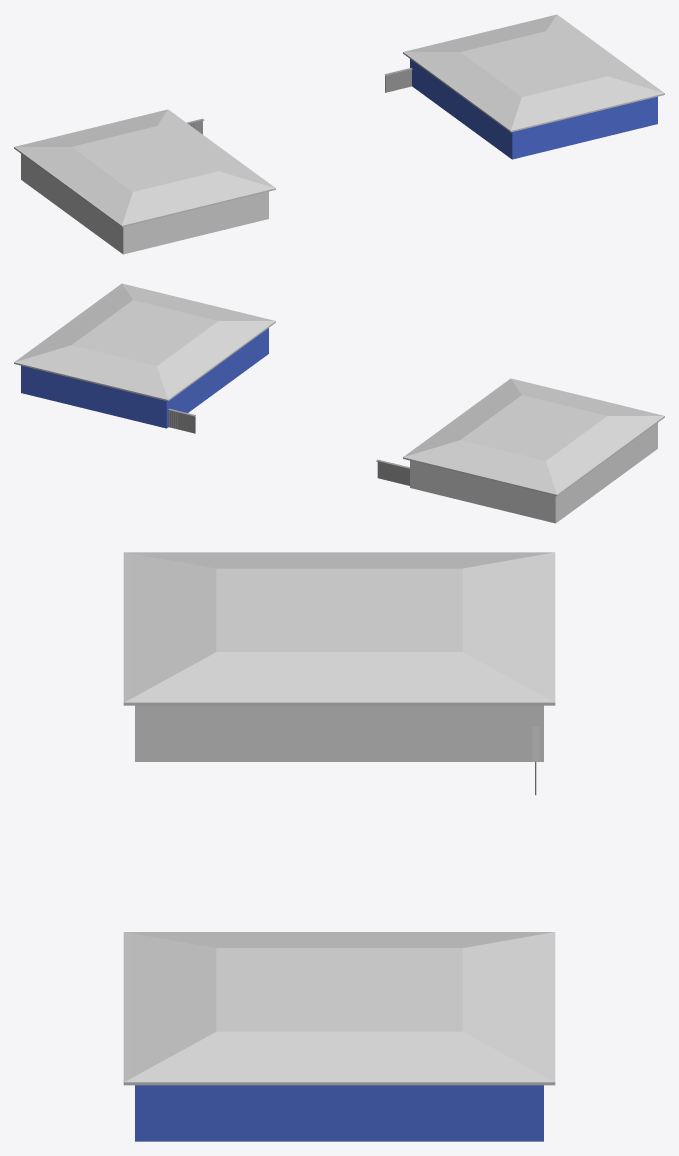
The model's file is HOutside2.fbx.
The picture shows the model from 3 angles, top to bottom: view 1: azimuth 30°, elevation 25°; view 2: azimuth 150°, elevation 25°; view 3: azimuth 270°, elevation 25°; orthographic projection. The views are drawn at different scales.
Visible parts, largest first — view 1: Cube.018; view 2: Cube.018; view 3: Cube.018.
Part boxes in pixels (box(x1,y1,x2,y2)): Cube.018: box(14, 14, 664, 254); Cube.018: box(14, 283, 664, 523); Cube.018: box(123, 552, 555, 1141).
Bounding box in the file's own units: 7820 × 554 × 2690.
